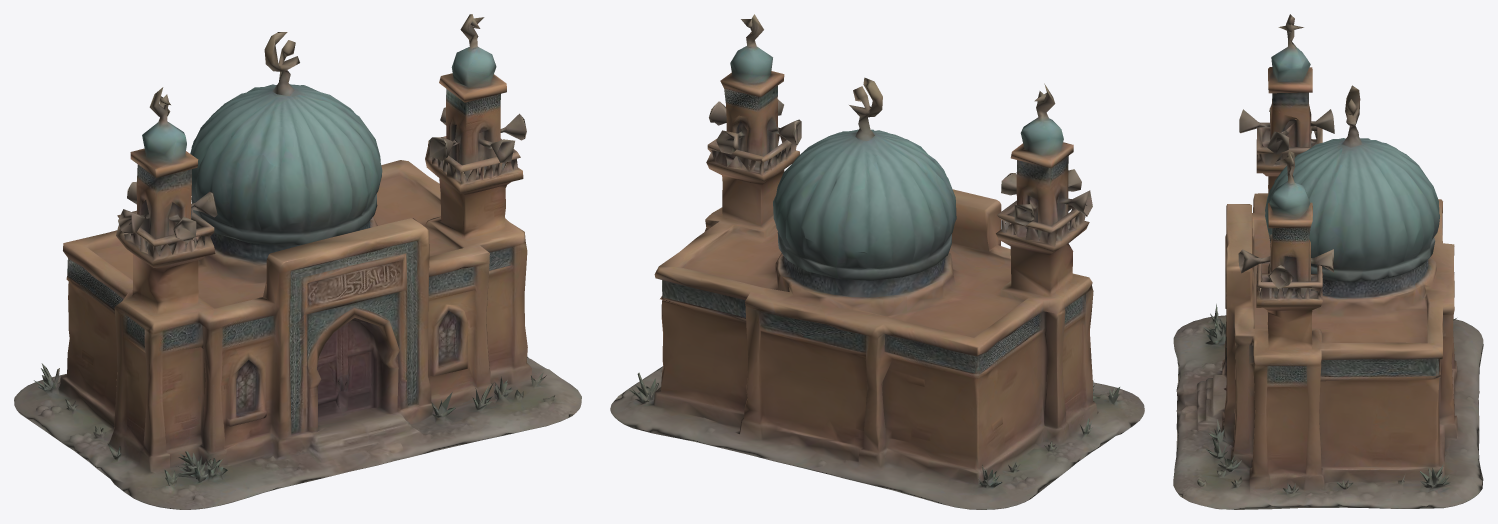
File: mosque_main.glb
3 views of the same model, side by side, from view 1: azimuth 30°, elevation 25°; view 2: azimuth 150°, elevation 25°; view 3: azimuth 270°, elevation 25° (orthographic). The views are drawn at different scales.
Parts seen in each view (by area): view 1: tripo_node_c2936634-2e37-4934-b4ae-be9e96d80024; view 2: tripo_node_c2936634-2e37-4934-b4ae-be9e96d80024; view 3: tripo_node_c2936634-2e37-4934-b4ae-be9e96d80024.
Boxes of the visible parts, x1,y1,x2,y2 form: tripo_node_c2936634-2e37-4934-b4ae-be9e96d80024: [14, 14, 581, 509]; tripo_node_c2936634-2e37-4934-b4ae-be9e96d80024: [610, 14, 1144, 509]; tripo_node_c2936634-2e37-4934-b4ae-be9e96d80024: [1173, 14, 1483, 509].
Size of the model in its own units: 1 by 0.7931 by 0.6734.
1 material, 1 textured.
